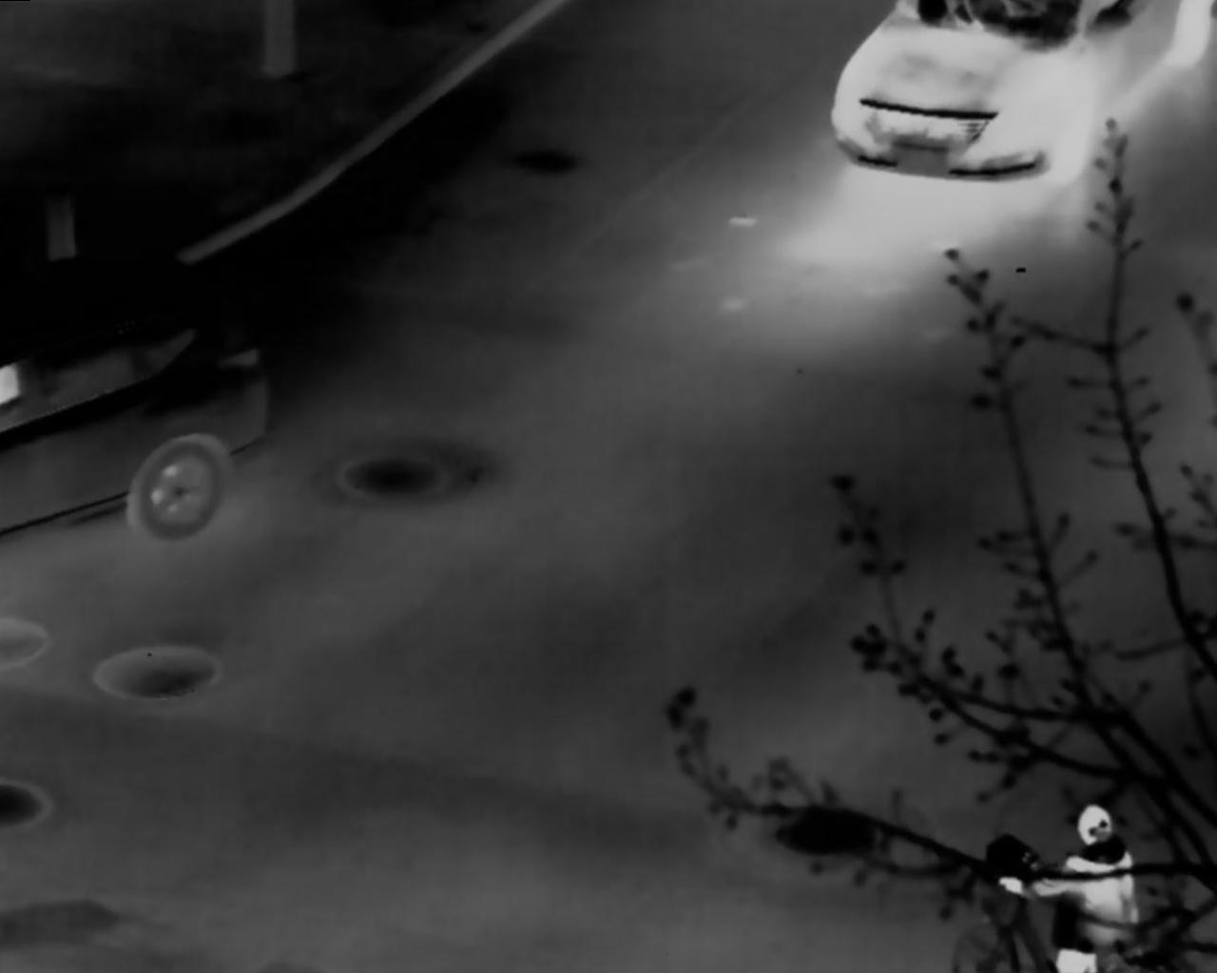person: (998, 803, 1139, 973)
